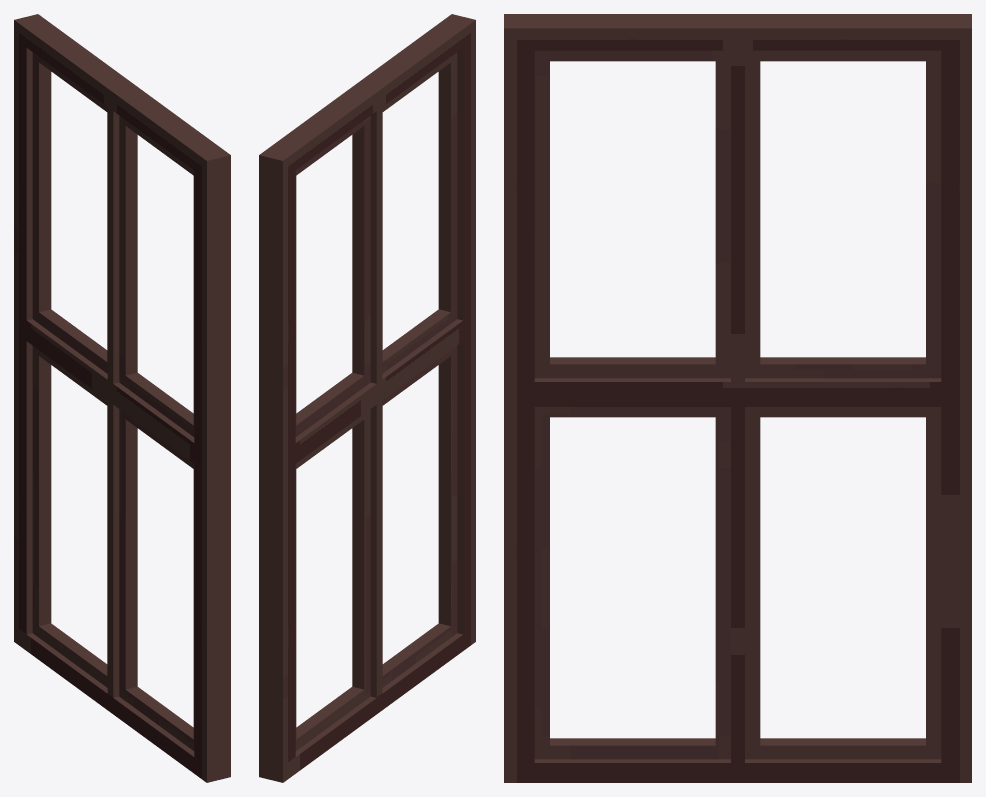
Rendered from Window_Noglass.fbx.
The picture shows the model from 3 angles, left to right: view 1: azimuth 30°, elevation 25°; view 2: azimuth 150°, elevation 25°; view 3: azimuth 270°, elevation 25°; orthographic projection. The views are drawn at different scales.
Parts seen in each view (by area): view 1: Cube; view 2: Cube; view 3: Cube.
Part boxes in pixels (x1,y1,x2,y2): Cube: [14, 14, 230, 782]; Cube: [259, 14, 475, 782]; Cube: [504, 14, 971, 782].
Size of the model in its own units: 19.86 by 491 by 276.
Materials: 1 (1 with a texture image).
